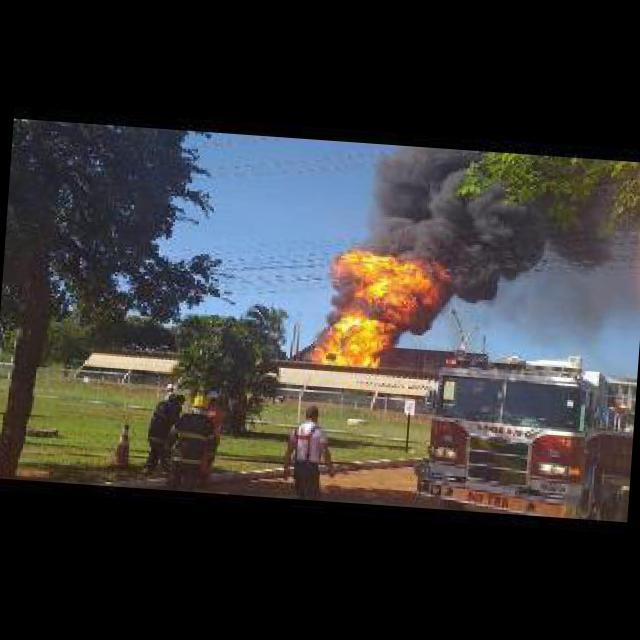Fire: (305, 234, 450, 370)
Smoke: (368, 147, 600, 304)
